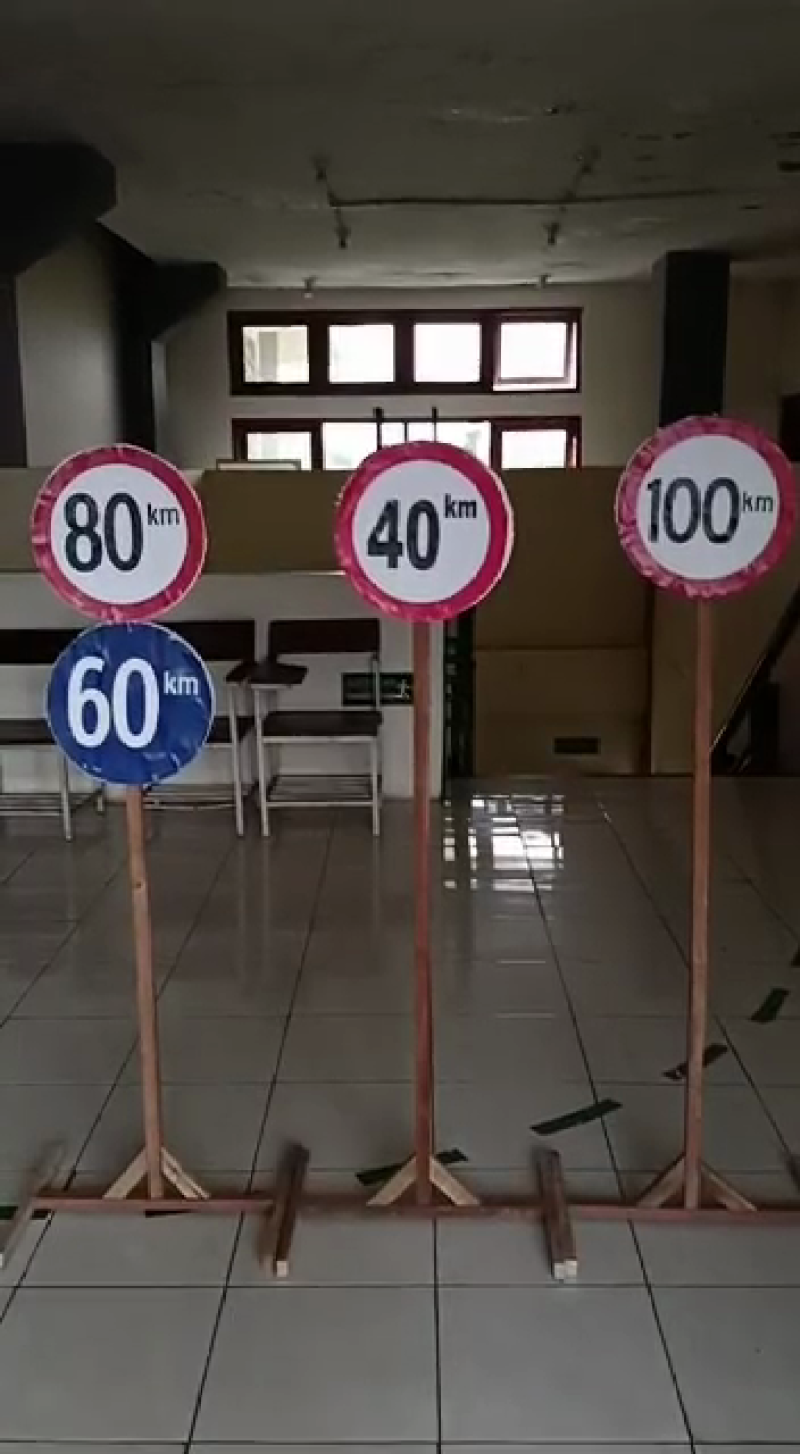batas maksimal 100kmperjam: (607, 396, 800, 603)
batas maksimal 40kmperjam: (333, 429, 513, 622)
batas maksimal 80kmperjam minimal 60kmperjam: (26, 422, 237, 794)
